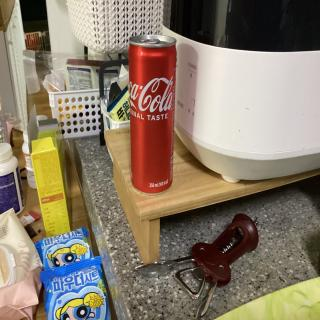cocacola: (125, 32, 180, 198)
